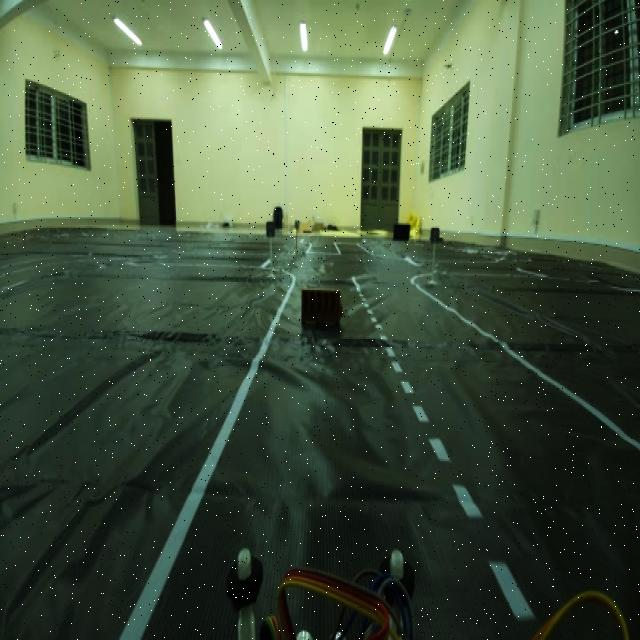roadblock: (297, 284, 348, 351)
